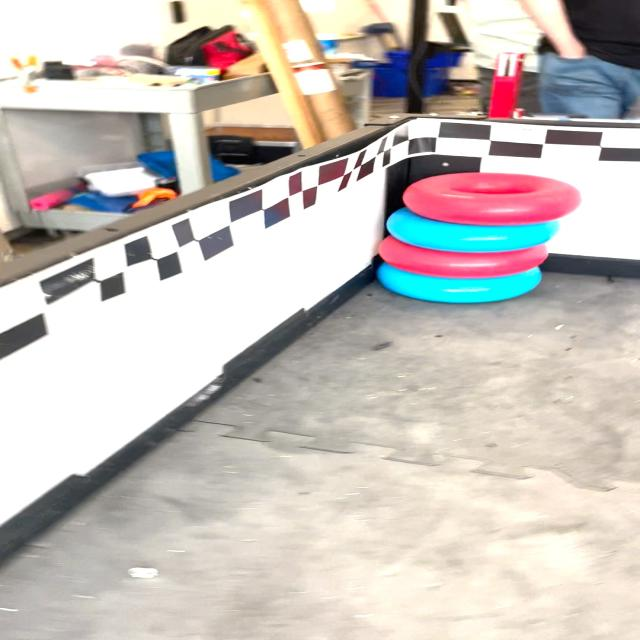Blue-Ring: (387, 208, 560, 252), (378, 264, 542, 302)
Red-Ring: (402, 172, 580, 226), (378, 236, 549, 279)
